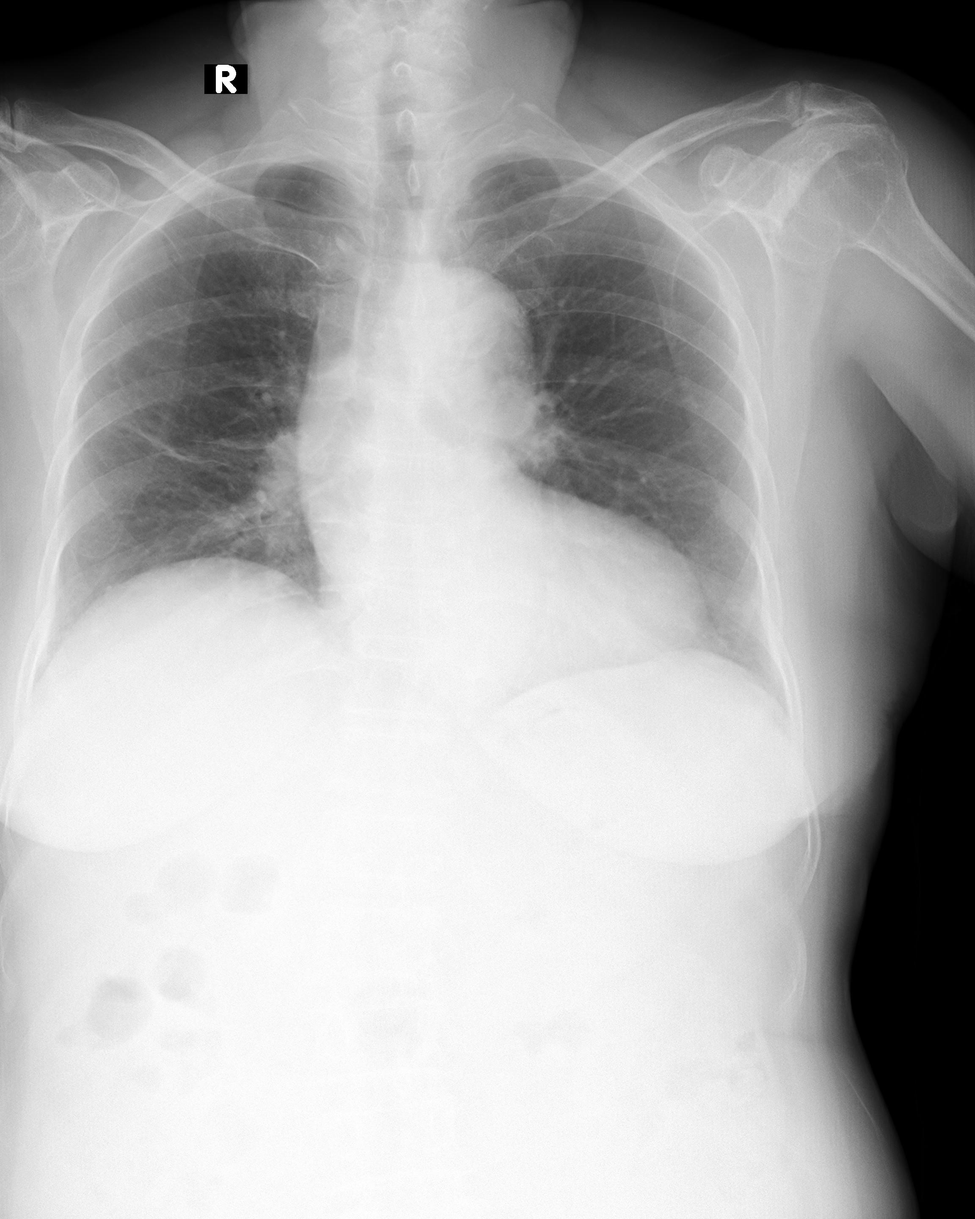Aortic enlargement: (297, 274, 527, 438)
Cardiomegaly: (294, 458, 711, 647)
Pulmonary fibrosis: (97, 409, 209, 463)
